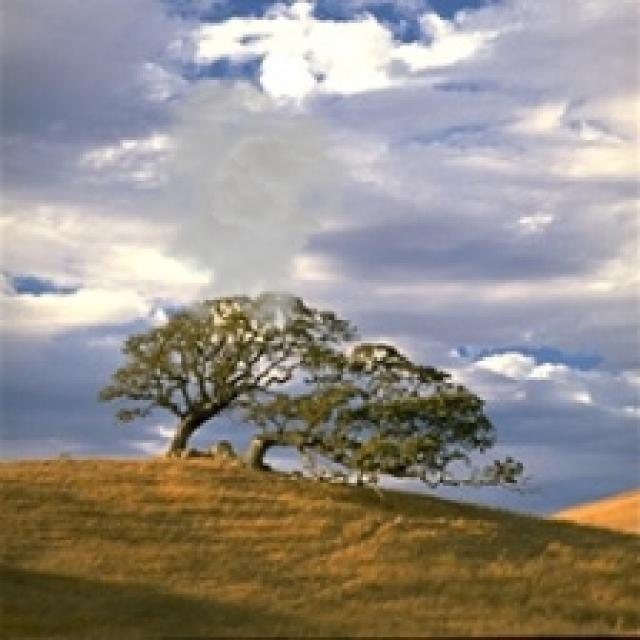smoke: (120, 74, 357, 337)
